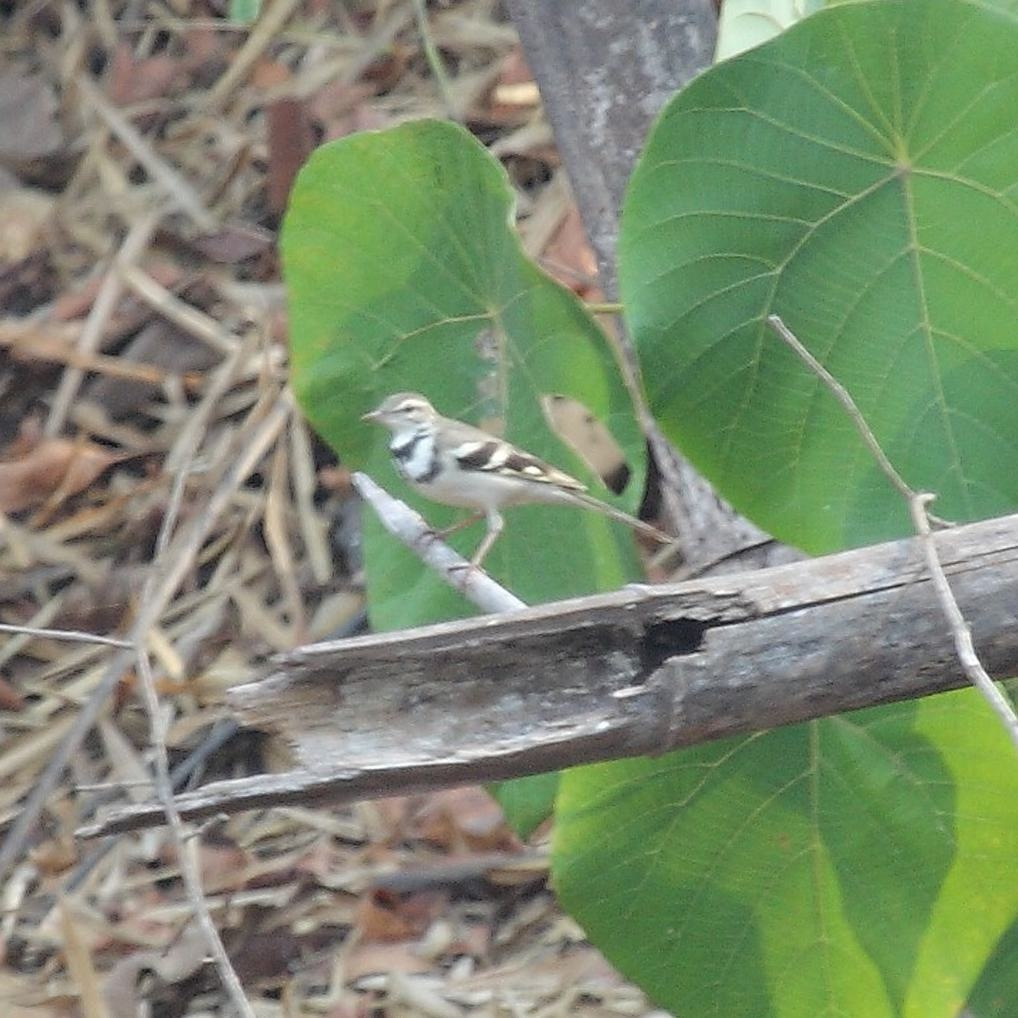wagtail: (369, 387, 619, 525)
